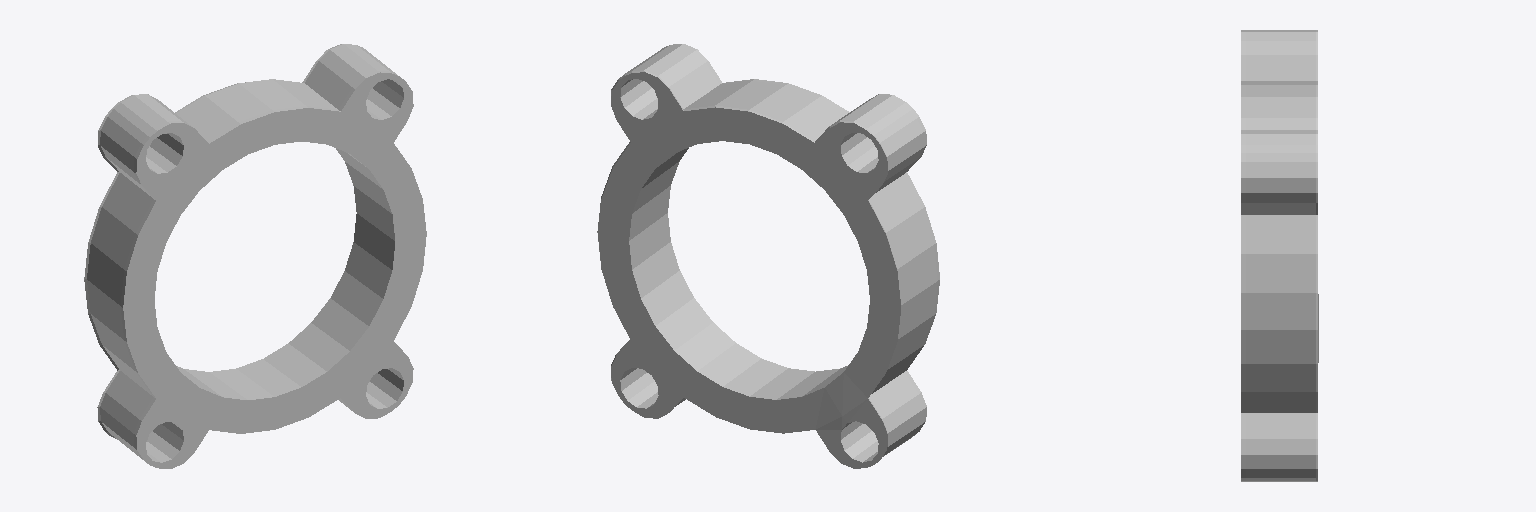
Rendered from THINGIDK.obj.
3 views of the same model, side by side, from view 1: azimuth 30°, elevation 25°; view 2: azimuth 150°, elevation 25°; view 3: azimuth 270°, elevation 25° (orthographic).
Parts seen in each view (by area): view 1: THINGIDK; view 2: THINGIDK; view 3: THINGIDK.
Boxes of the visible parts, box(x1,y1,x2,y2) form: THINGIDK: box(84, 44, 426, 468); THINGIDK: box(597, 44, 939, 468); THINGIDK: box(1241, 30, 1318, 481).
Bounding box in the file's own units: 0.633 × 0.6872 × 0.1418.